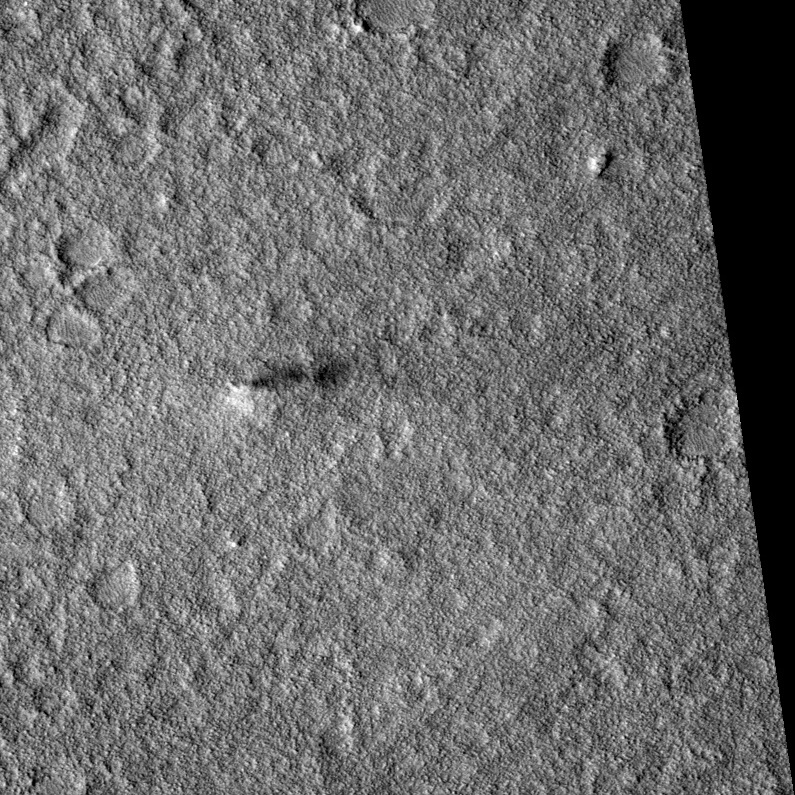dust_devil: (224, 356, 357, 429)
